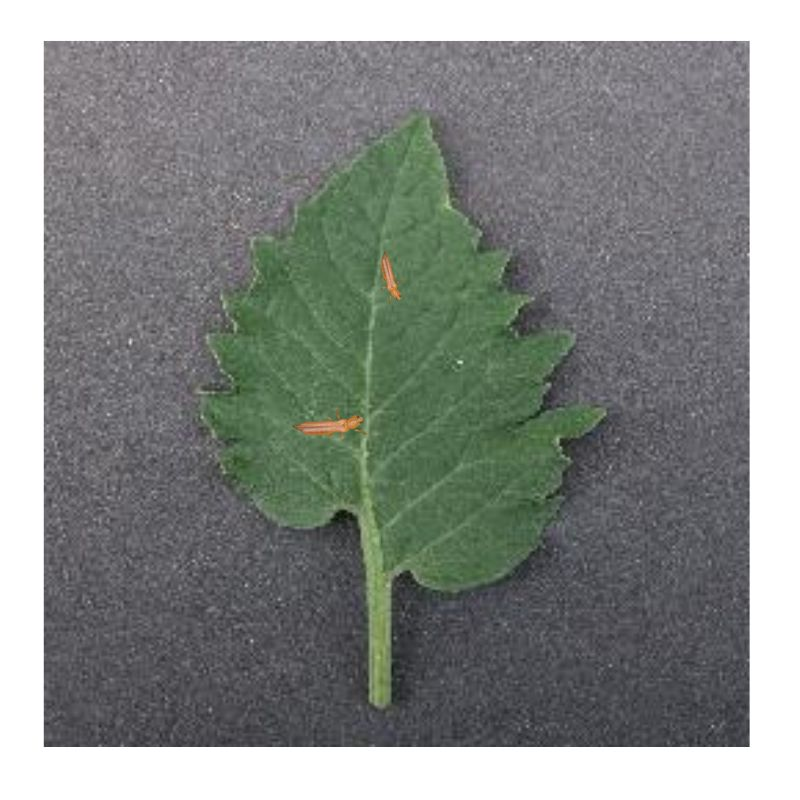thrips: (294, 409, 367, 444), (379, 252, 403, 301)
